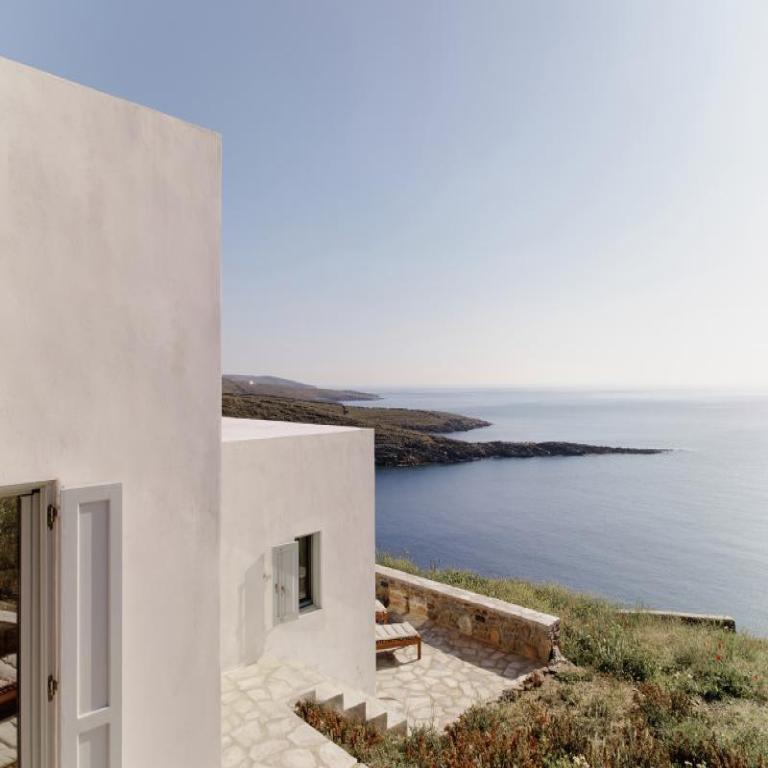white-walls: (14, 115, 366, 555)
